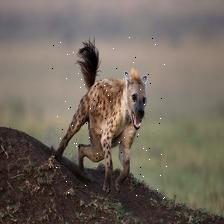hyena: (52, 37, 167, 200)
